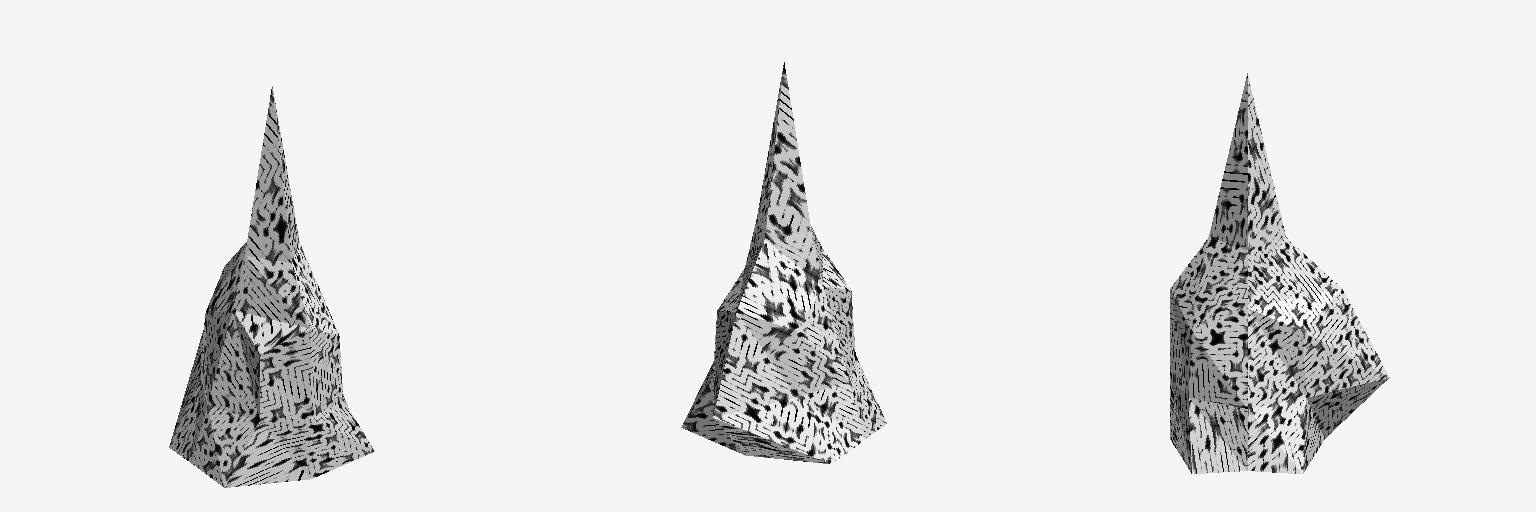
3 views of the same model, side by side, from view 1: azimuth 30°, elevation 25°; view 2: azimuth 150°, elevation 25°; view 3: azimuth 270°, elevation 25° (orthographic).
Visible parts, largest first — view 1: Ship2_Cube; view 2: Ship2_Cube; view 3: Ship2_Cube.
Boxes of the visible parts, x1,y1,x2,y2 form: Ship2_Cube: [169, 86, 374, 487]; Ship2_Cube: [681, 62, 886, 463]; Ship2_Cube: [1170, 73, 1389, 473].
Bounding box in the file's own units: 3.85 × 8.29 × 4.5.
Materials: 1 (1 with a texture image).